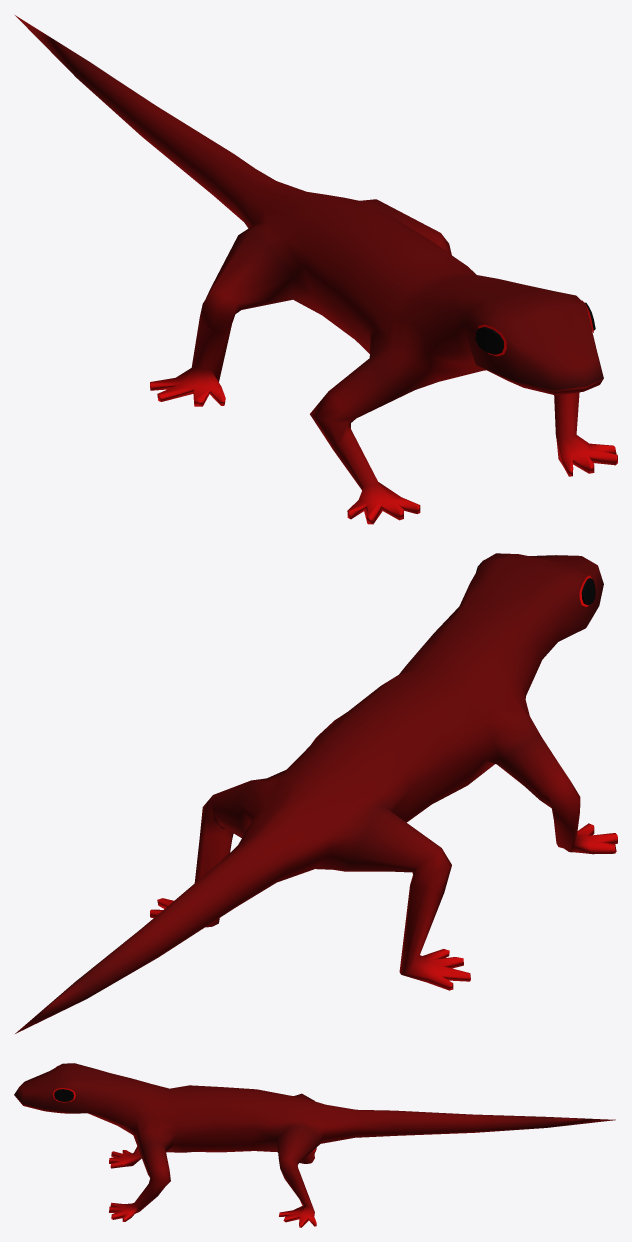
The model's file is Reptiles_Gecko.fbx.
3 renders of one model, top to bottom at view 1: azimuth 30°, elevation 25°; view 2: azimuth 150°, elevation 25°; view 3: azimuth 270°, elevation 25°, orthographic. The views are drawn at different scales.
Parts seen in each view (by area): view 1: base; view 2: base; view 3: base.
Part boxes in pixels (left/top/right/bottom): base: left=15, top=15, right=617, bottom=524; base: left=15, top=553, right=617, bottom=1033; base: left=14, top=1063, right=615, bottom=1227.
Size of the model in its own units: 279 by 189 by 887.
